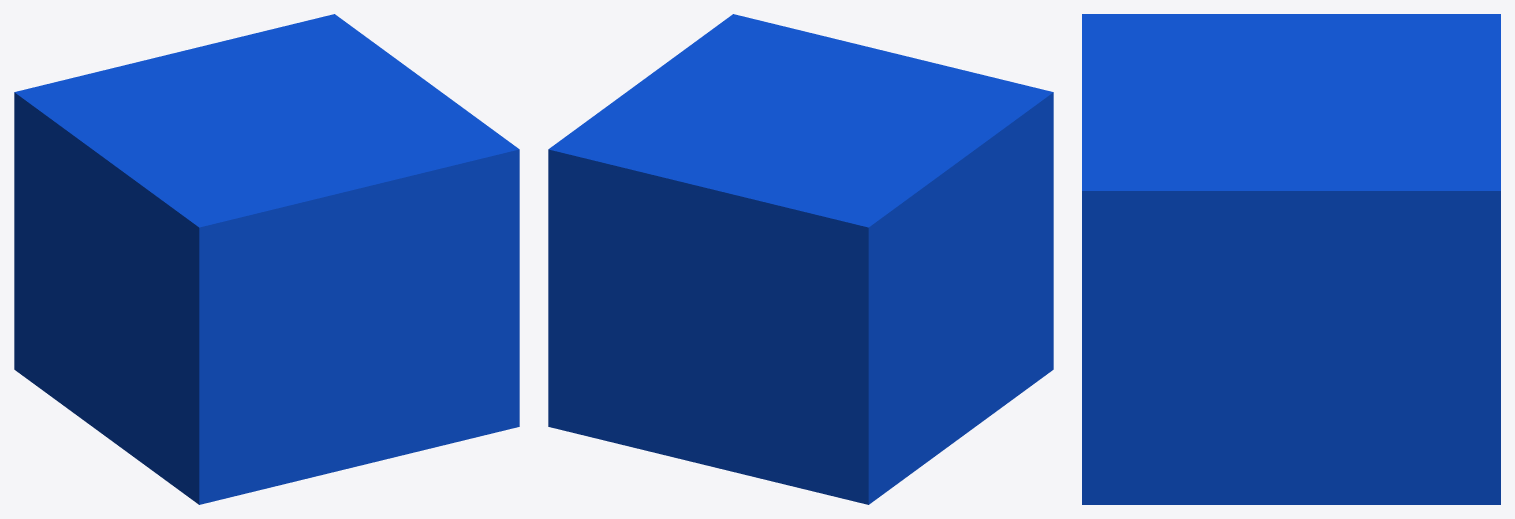
File: Way_Box_.fbx
3 renders of one model, left to right at view 1: azimuth 30°, elevation 25°; view 2: azimuth 150°, elevation 25°; view 3: azimuth 270°, elevation 25°, orthographic. The views are drawn at different scales.
Visible parts, largest first — view 1: Way_Box_; view 2: Way_Box_; view 3: Way_Box_.
Part boxes in pixels (<box>): Way_Box_: <box>14,14,519,504</box>; Way_Box_: <box>548,14,1053,504</box>; Way_Box_: <box>1082,14,1500,504</box>.
Size of the model in its own units: 4 by 4 by 3.31.
